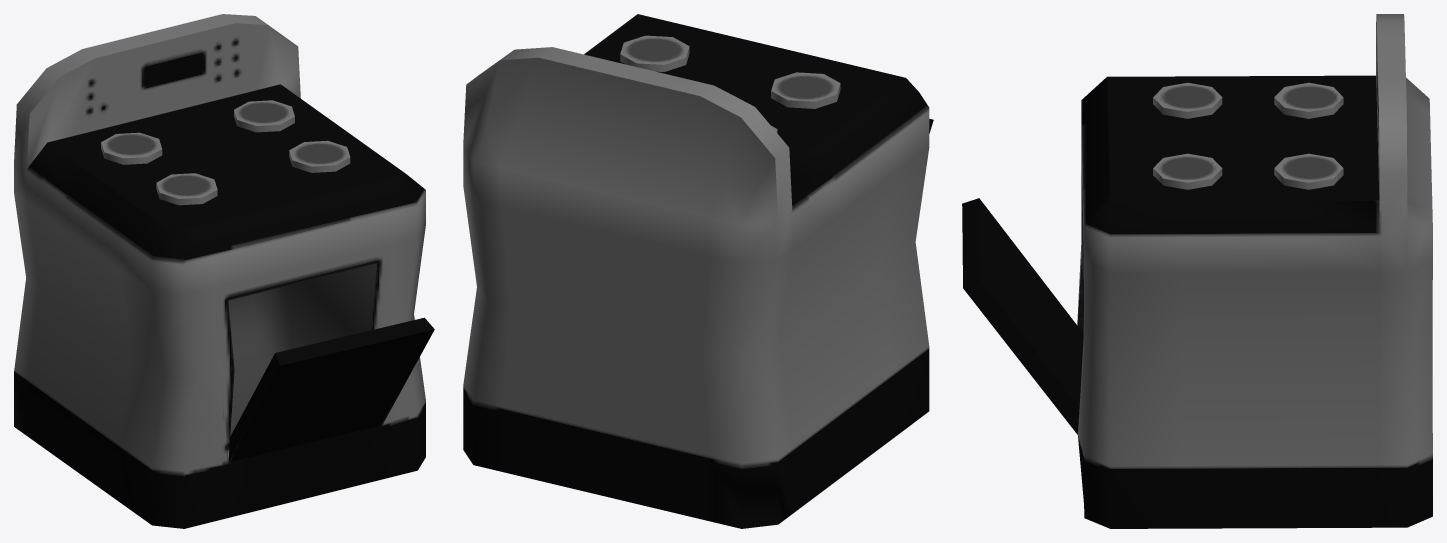
The model's file is oven.fbx.
The picture shows the model from 3 angles, left to right: view 1: azimuth 30°, elevation 25°; view 2: azimuth 150°, elevation 25°; view 3: azimuth 270°, elevation 25°; orthographic projection. The views are drawn at different scales.
Parts seen in each view (by area): view 1: polySurface600; view 2: polySurface600; view 3: polySurface600.
Part boxes in pixels (box(x1,y1,x2,y2)): polySurface600: box(14, 14, 434, 528); polySurface600: box(463, 14, 933, 528); polySurface600: box(962, 14, 1432, 528).
Bounding box in the file's own units: 0.9369 × 1.16 × 1.25.
1 material, 1 textured.
